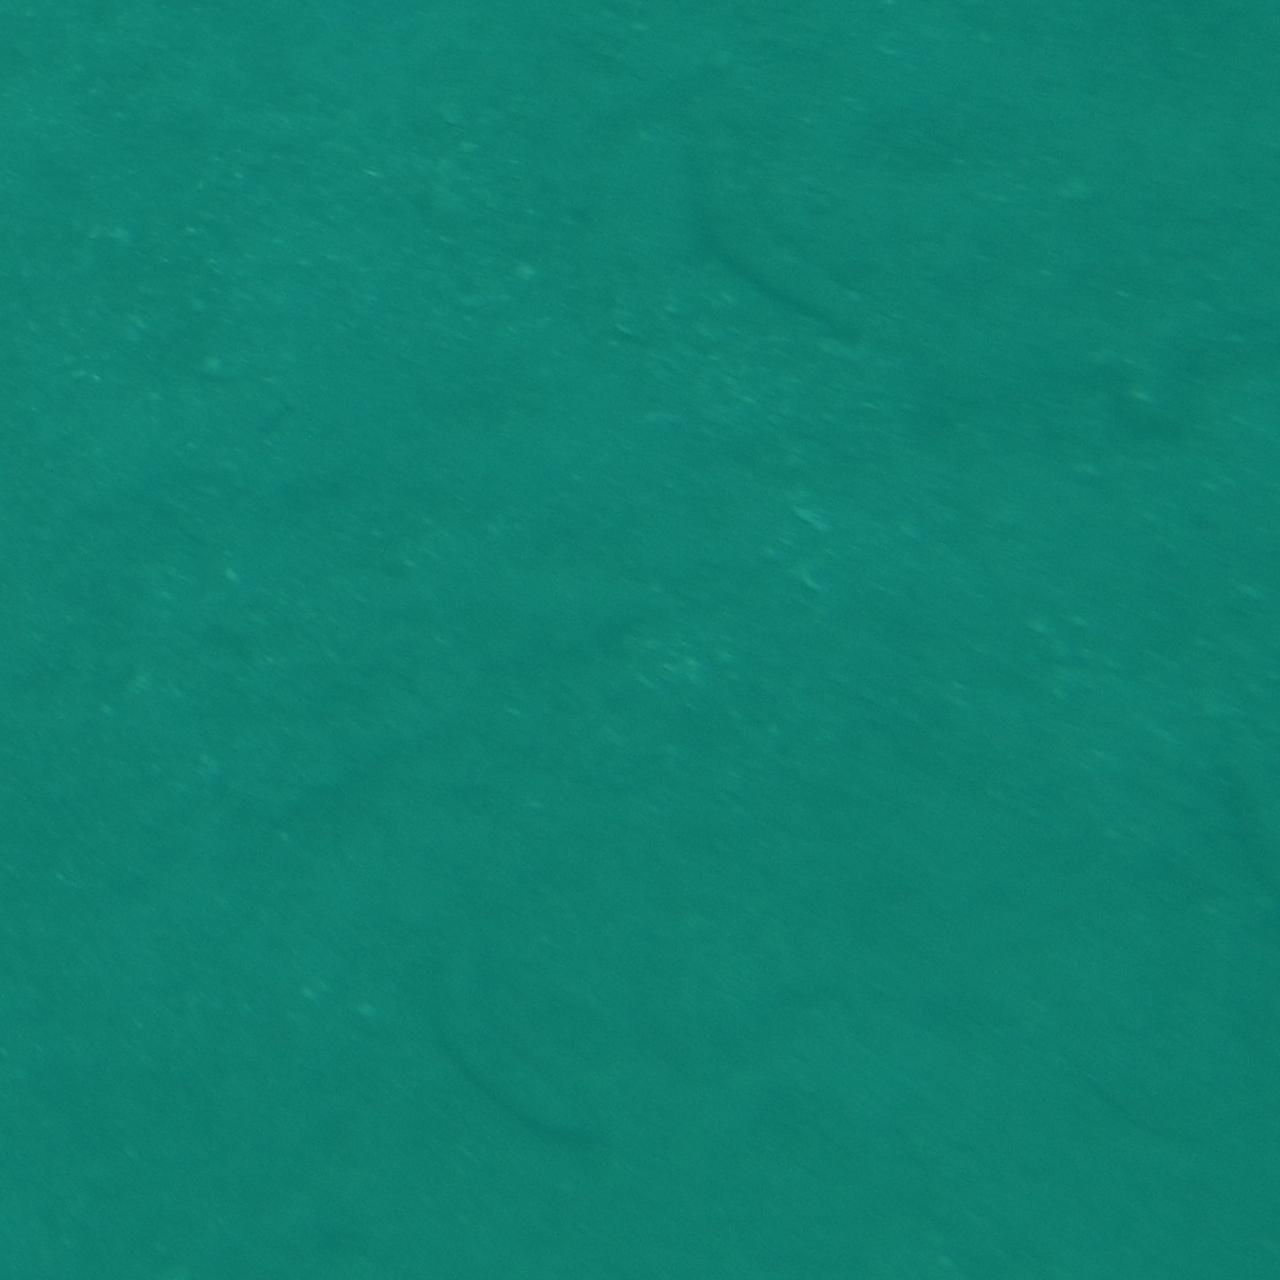Holothuria tubulosa: (653, 120, 912, 348), (383, 937, 614, 1156)
